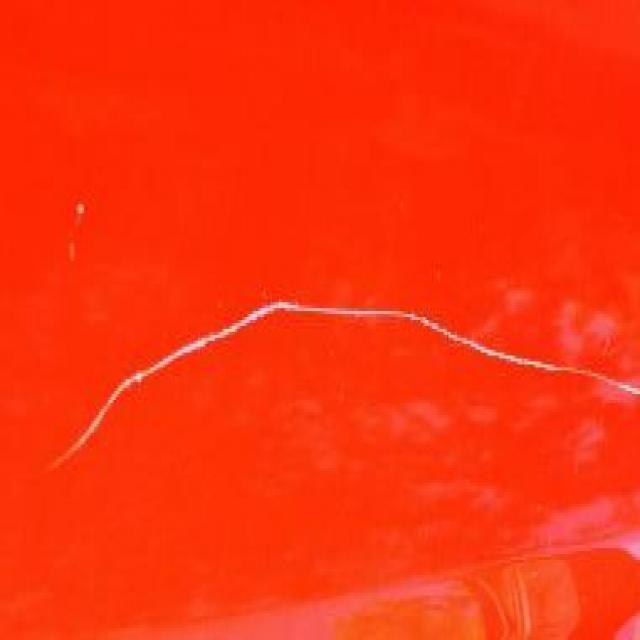scratch: (38, 296, 636, 483)
